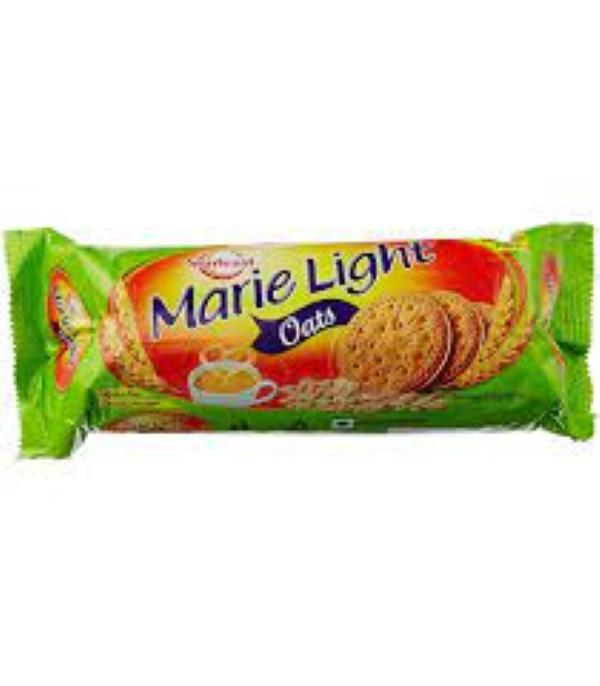MarieLight: (5, 206, 599, 473)
